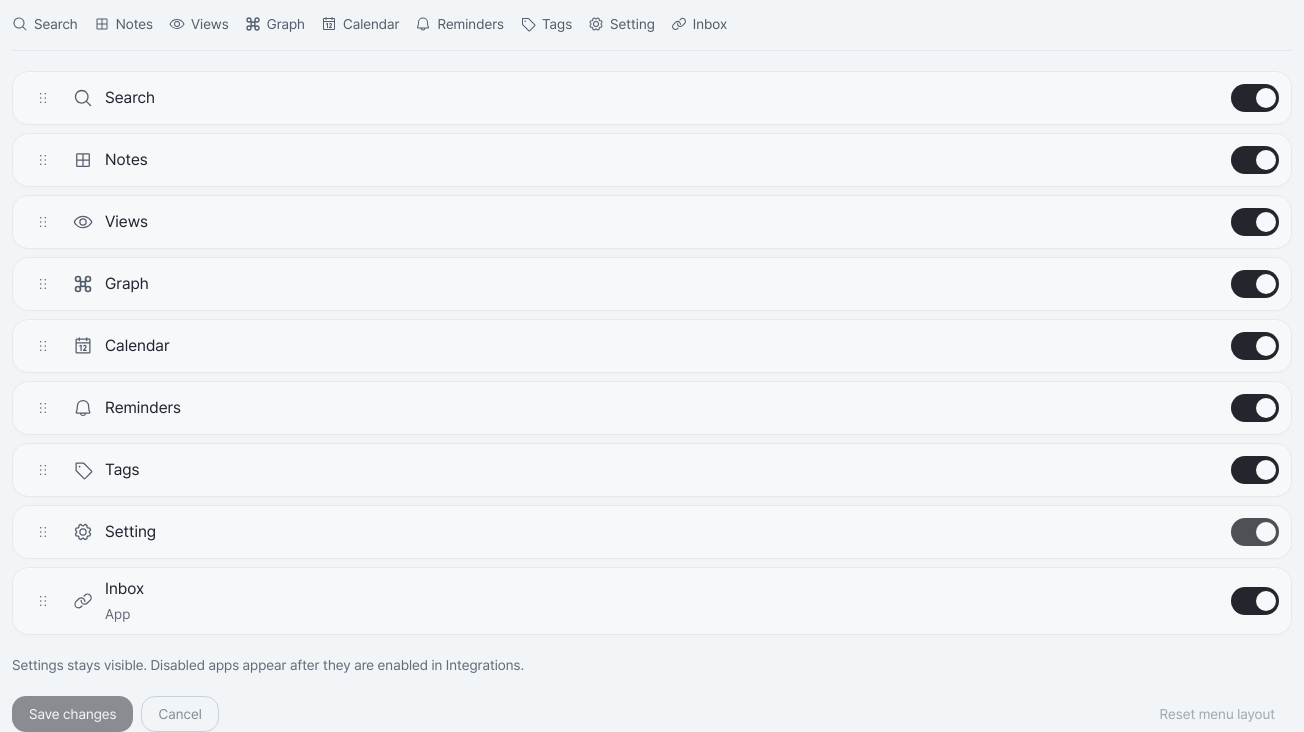
Test: preserves the draft on a failed save and allows reloading current settings
(page scrolled)
What coordinates should you click on to do the following:
click the switch named "Show Graph in top bar"
I would click on:
 (1255, 284)
Its box is [1231,270,1279,298].
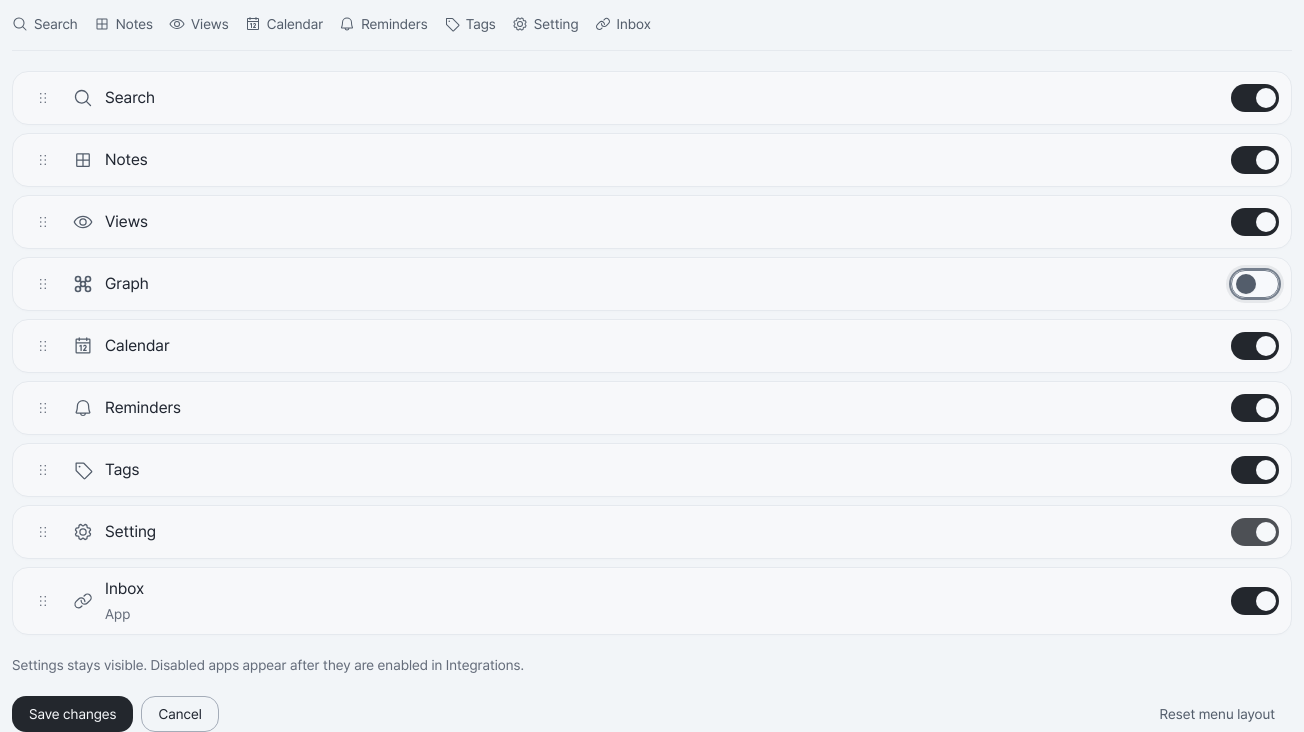
What coordinates should you click on to do the following:
click the button "Save changes"
I would click on:
 (73, 714)
Its box is [12,696,134,731].
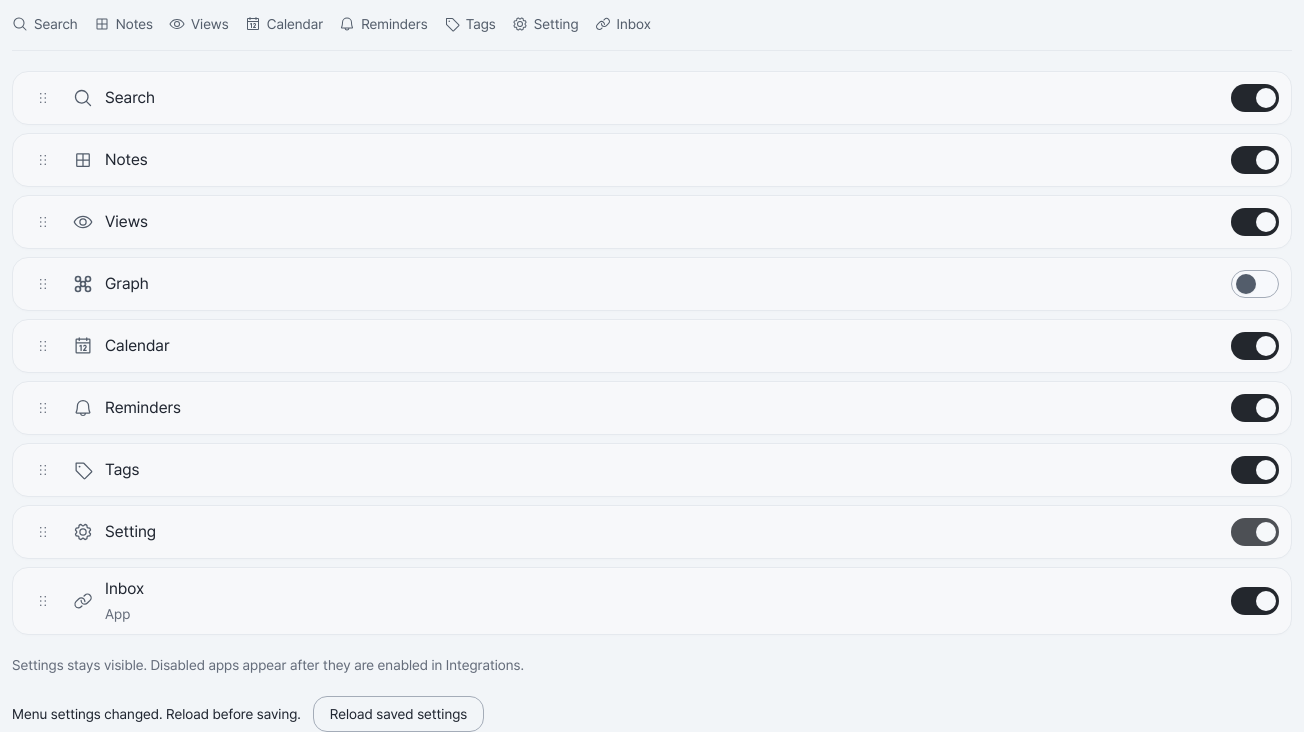
Expected: the switch named "Show Graph in top bar" is not checked, [1231,270,1279,298]
Expected: the message shows "Menu settings changed", [12,706,301,722]
What coordinates should you click on to do the following:
click the button "Reload saved settings"
I would click on:
 (399, 714)
Its box is [313,696,484,731].
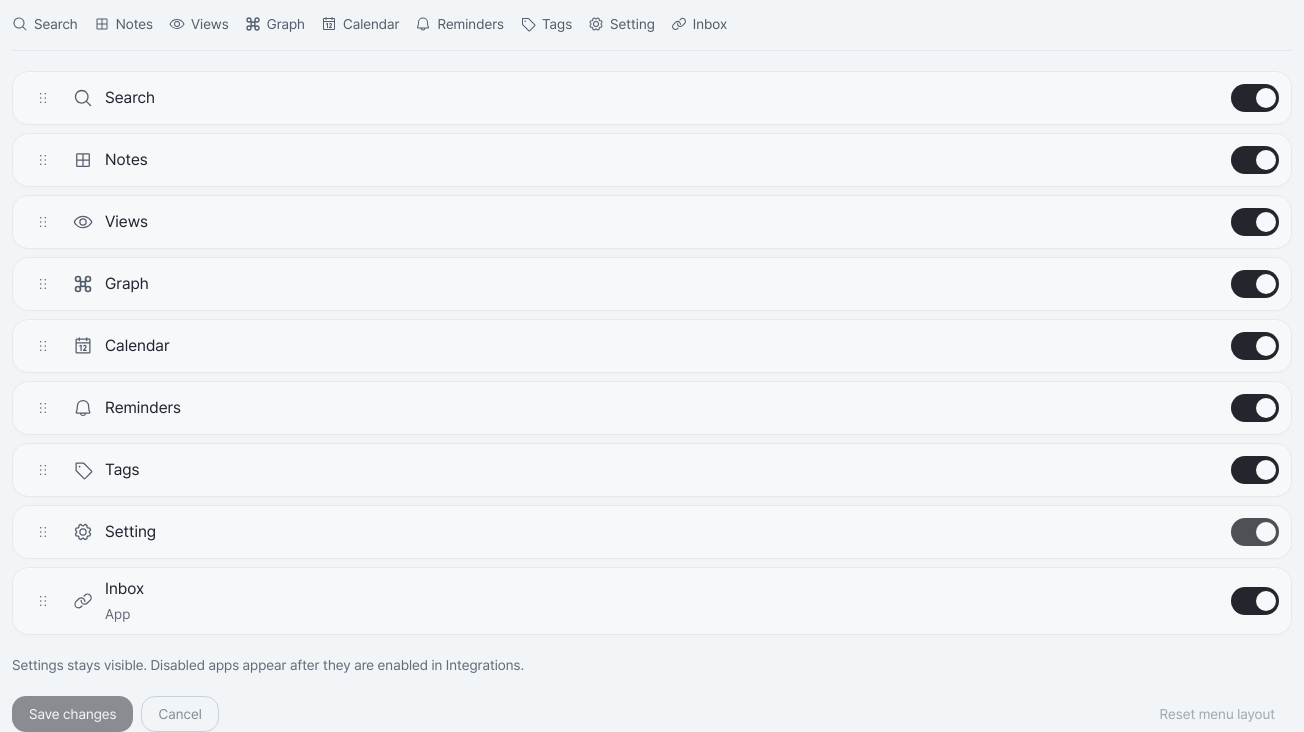
Expected: the switch named "Show Graph in top bar" is checked, [1231,270,1279,298]
